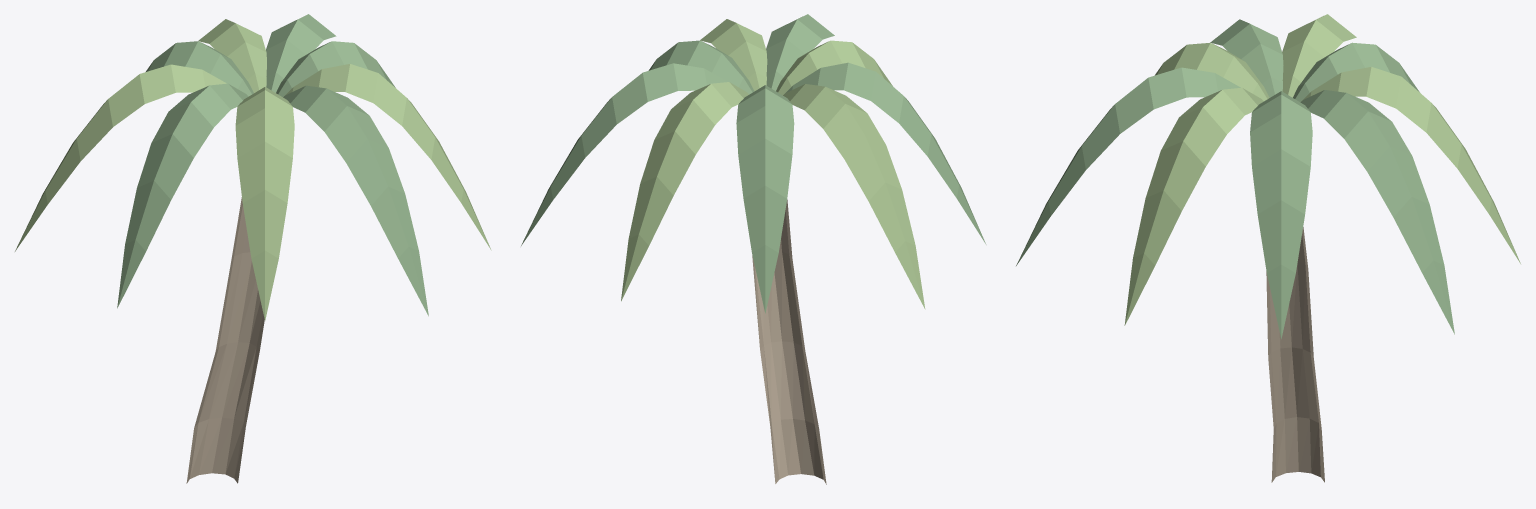
Rendered from palm_1000_3.glb.
3 renders of one model, left to right at view 1: azimuth 30°, elevation 25°; view 2: azimuth 150°, elevation 25°; view 3: azimuth 270°, elevation 25°, orthographic. The views are drawn at different scales.
Parts seen in each view (by area): view 1: palm_1000_3_0, palm_1000_3_4, palm_1000_3_3, palm_1000_3_5, palm_1000_3_6, palm_1000_3_2, palm_1000_3_9, palm_1000_3_8, palm_1000_3_1, palm_1000_3_7; view 2: palm_1000_3_0, palm_1000_3_7, palm_1000_3_6, palm_1000_3_8, palm_1000_3_9, palm_1000_3_5, palm_1000_3_3, palm_1000_3_2, palm_1000_3_4, palm_1000_3_1; view 3: palm_1000_3_1, palm_1000_3_9, palm_1000_3_2, palm_1000_3_0, palm_1000_3_3, palm_1000_3_8, palm_1000_3_6, palm_1000_3_5, palm_1000_3_7, palm_1000_3_4.
Part boxes in pixels (x1,y1,x2,y2): palm_1000_3_0: [186, 197, 264, 483]; palm_1000_3_4: [235, 87, 294, 320]; palm_1000_3_3: [283, 85, 428, 316]; palm_1000_3_5: [117, 83, 248, 308]; palm_1000_3_6: [15, 64, 226, 251]; palm_1000_3_2: [283, 64, 491, 250]; palm_1000_3_9: [266, 14, 336, 92]; palm_1000_3_8: [198, 19, 266, 92]; palm_1000_3_1: [276, 41, 395, 96]; palm_1000_3_7: [146, 41, 253, 96]; palm_1000_3_0: [752, 199, 826, 484]; palm_1000_3_7: [736, 85, 794, 313]; palm_1000_3_6: [783, 84, 925, 309]; palm_1000_3_8: [621, 82, 748, 301]; palm_1000_3_9: [521, 63, 727, 245]; palm_1000_3_5: [784, 62, 986, 244]; palm_1000_3_3: [766, 14, 834, 90]; palm_1000_3_2: [700, 19, 767, 91]; palm_1000_3_4: [776, 40, 892, 95]; palm_1000_3_1: [648, 40, 754, 94]; palm_1000_3_1: [1250, 91, 1312, 338]; palm_1000_3_9: [1301, 90, 1454, 334]; palm_1000_3_2: [1124, 87, 1263, 325]; palm_1000_3_0: [1266, 227, 1324, 482]; palm_1000_3_3: [1016, 67, 1240, 265]; palm_1000_3_8: [1300, 66, 1520, 263]; palm_1000_3_6: [1282, 14, 1356, 97]; palm_1000_3_5: [1210, 19, 1283, 97]; palm_1000_3_7: [1293, 42, 1419, 102]; palm_1000_3_4: [1155, 42, 1269, 101].
Size of the model in its own units: 2.71 by 2.83 by 2.91.
